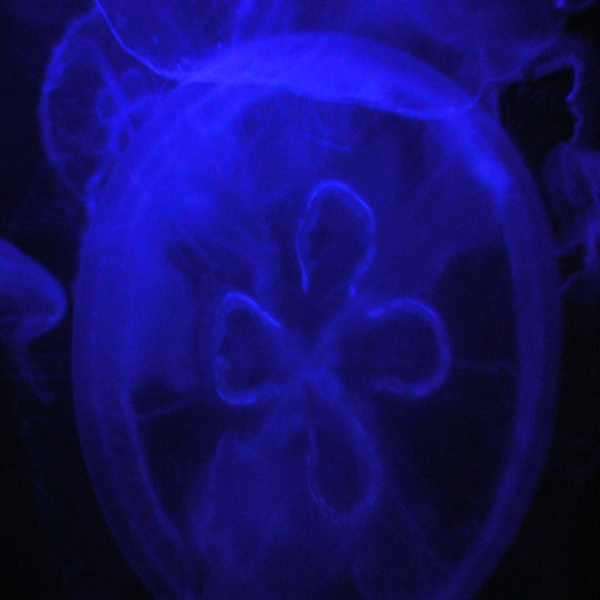Jellyfish: (33, 36, 544, 570)
